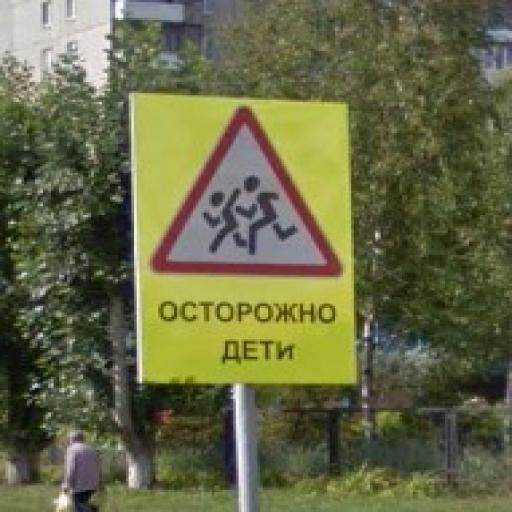traffic_sign: (149, 105, 344, 278)
